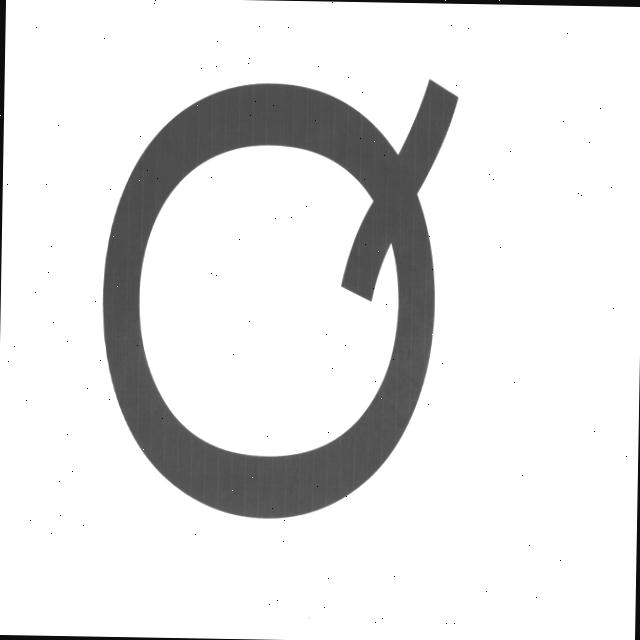q: (80, 14, 475, 551)
